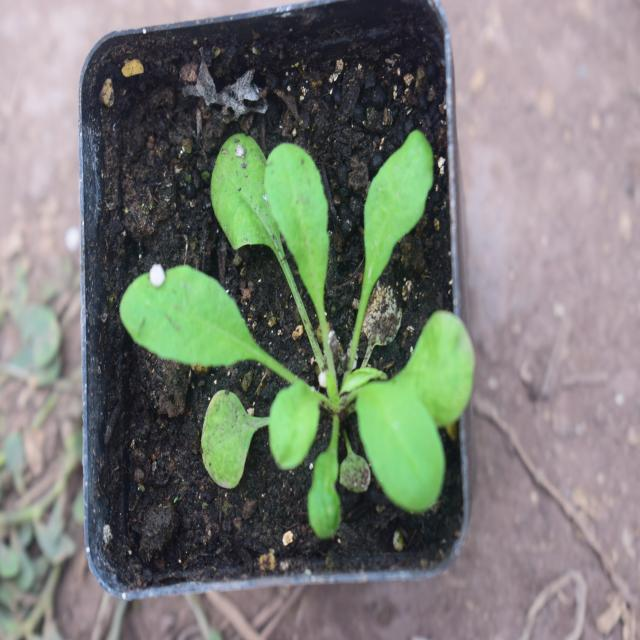Shepherd_Purse: (132, 128, 468, 510)
